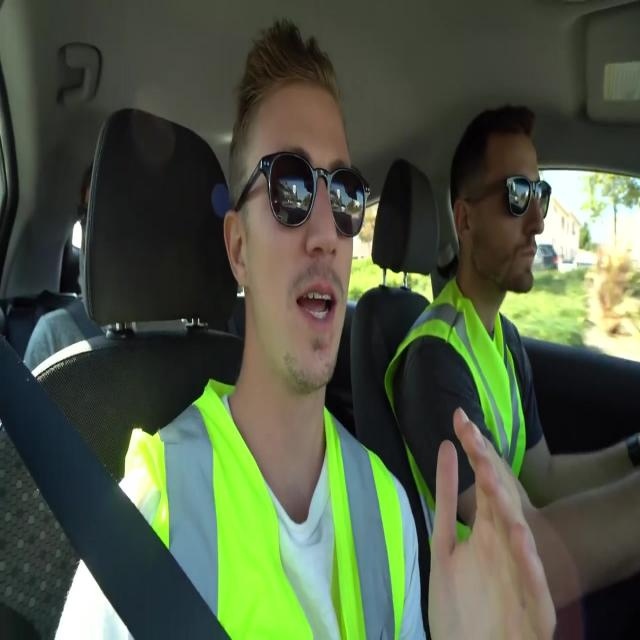Reflective-Jacket: (126, 380, 412, 640), (383, 271, 537, 588)
